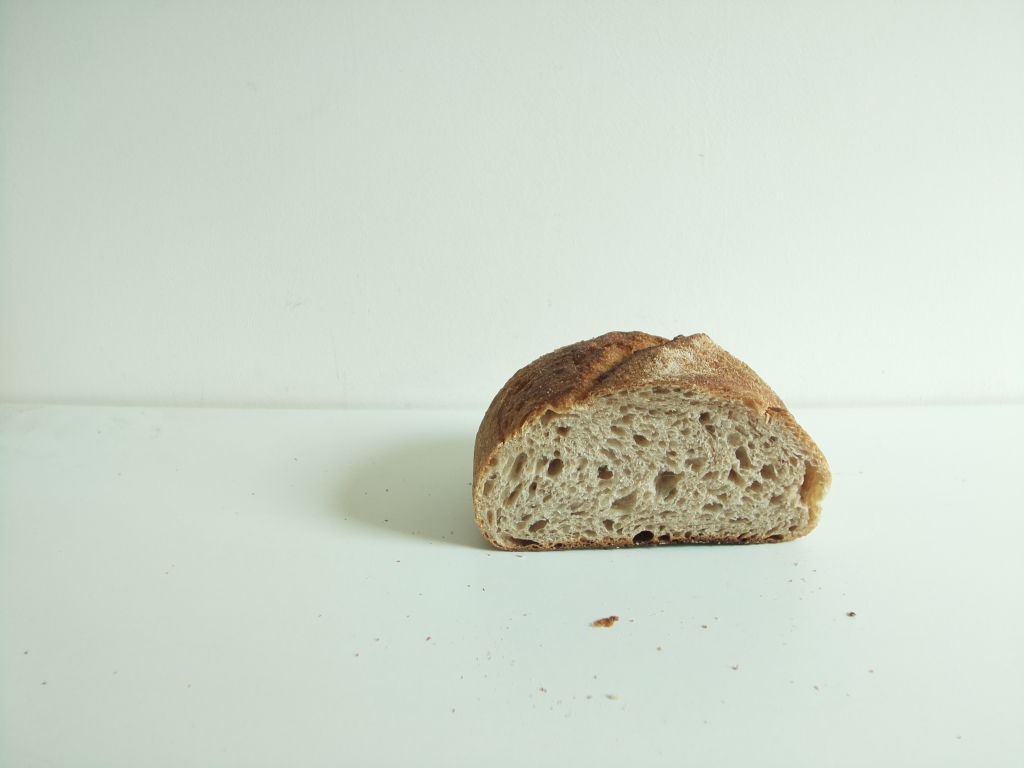bread: (473, 333, 833, 552)
